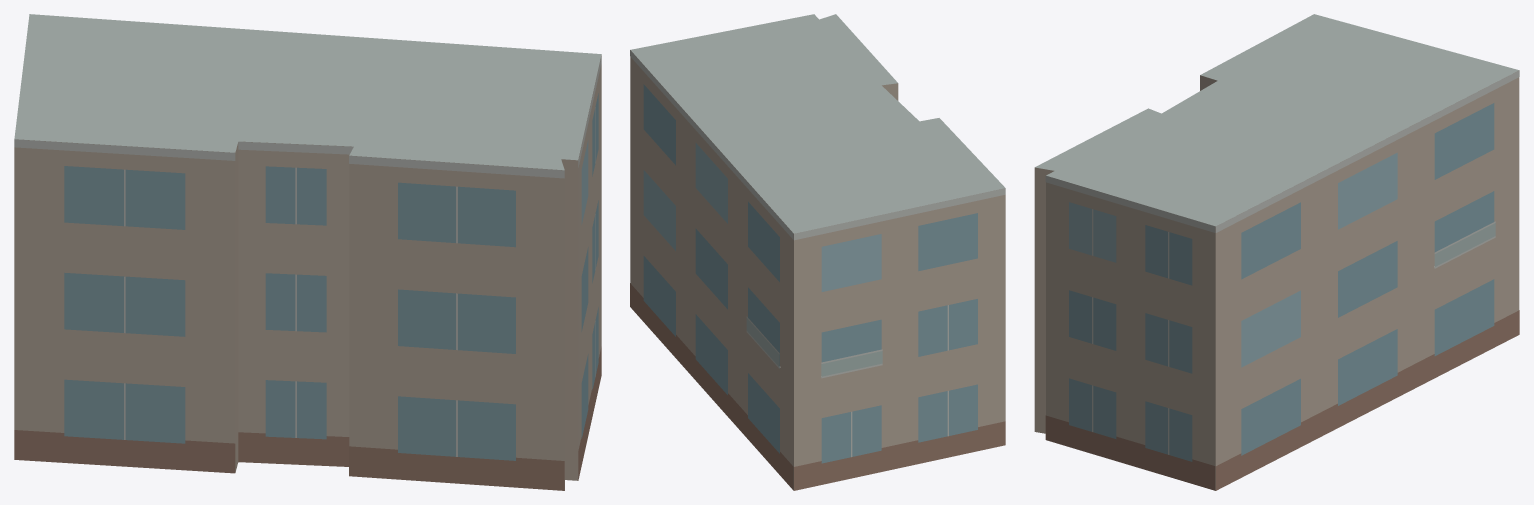
Rendered from survey-upis-32767467.glb.
The picture shows the model from 3 angles, left to right: view 1: azimuth 30°, elevation 25°; view 2: azimuth 150°, elevation 25°; view 3: azimuth 270°, elevation 25°; orthographic projection. The views are drawn at different scales.
Parts seen in each view (by area): view 1: survey-upis-32767467.tmp; view 2: survey-upis-32767467.tmp; view 3: survey-upis-32767467.tmp.
Part boxes in pixels (box(x1,y1,x2,y2)): survey-upis-32767467.tmp: box(14, 14, 601, 490); survey-upis-32767467.tmp: box(630, 14, 1005, 490); survey-upis-32767467.tmp: box(1034, 14, 1519, 490).
Size of the model in its own units: 16.37 by 9.5 by 15.8.
